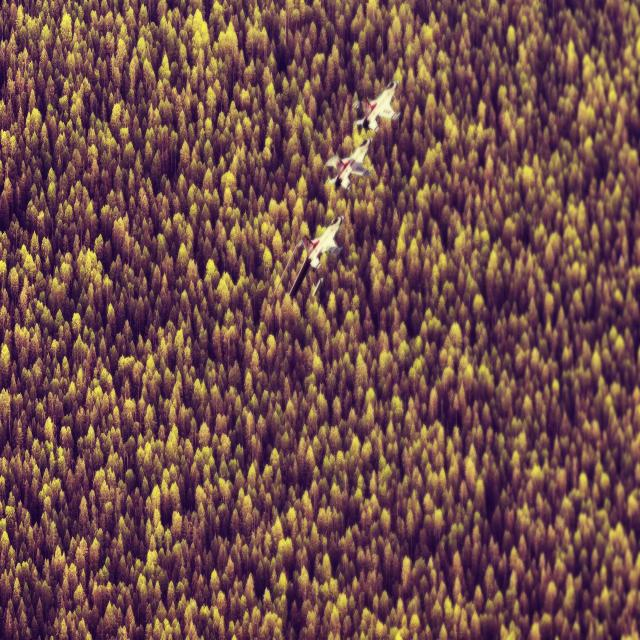airplane: (271, 214, 344, 300), (324, 137, 372, 192), (352, 80, 399, 135)
